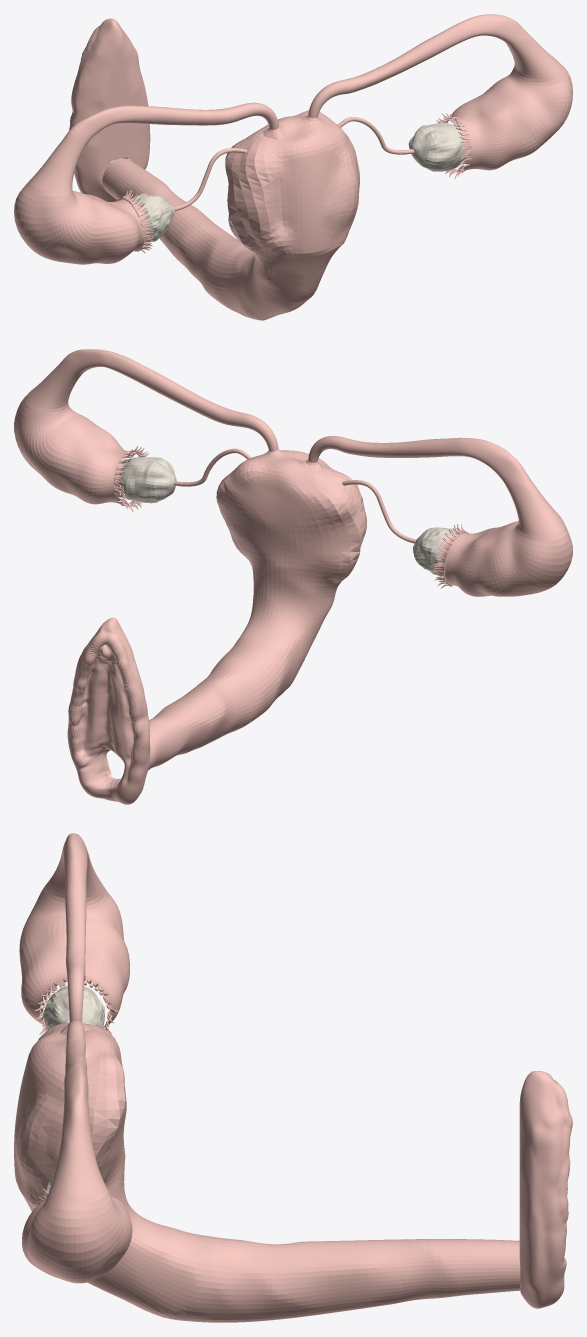
File: female reprductive.glb
3 renders of one model, top to bottom at view 1: azimuth 30°, elevation 25°; view 2: azimuth 150°, elevation 25°; view 3: azimuth 270°, elevation 25°, orthographic. The views are drawn at different scales.
Parts seen in each view (by area): view 1: Remesh, right side bambo (×2), Subdivision Surface.1, Sphere, Cloner (×2), Sphere.1, Sweep; view 2: Remesh, right side bambo (×2), Subdivision Surface.1, Sphere, Cloner (×2), Sphere.1, Sweep; view 3: Remesh, right side bambo (×2), Subdivision Surface.1, Sphere.1, Cloner.
Part boxes in pixels (<box>): Remesh: <box>102,110,359,320</box>; right side bambo (×2): <box>14,14,572,264</box>; Subdivision Surface.1: <box>69,18,150,201</box>; Sphere: <box>408,122,468,171</box>; Cloner (×2): <box>117,113,471,253</box>; Sphere.1: <box>128,193,174,242</box>; Sweep: <box>174,117,414,210</box>; Remesh: <box>148,449,367,770</box>; right side bambo (×2): <box>14,349,572,596</box>; Subdivision Surface.1: <box>67,617,150,804</box>; Sphere: <box>114,457,176,503</box>; Cloner (×2): <box>114,446,468,588</box>; Sphere.1: <box>412,527,458,576</box>; Sweep: <box>174,448,416,543</box>; Remesh: <box>14,1022,520,1322</box>; right side bambo (×2): <box>19,833,132,1283</box>; Subdivision Surface.1: <box>519,1071,572,1308</box>; Sphere.1: <box>43,986,104,1029</box>; Cloner: <box>34,975,119,1034</box>.
Size of the model in its own units: 88.03 by 43.34 by 60.8.
